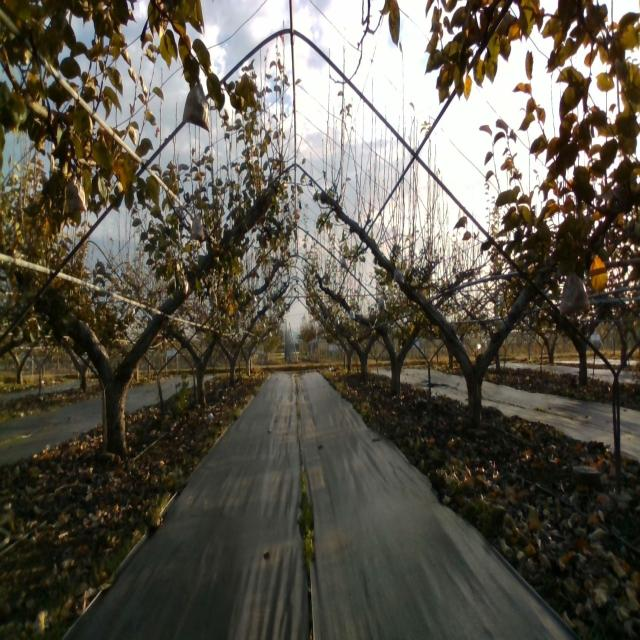pearbags: (559, 271, 591, 317), (182, 80, 210, 132), (62, 172, 87, 216), (190, 214, 204, 241), (394, 262, 405, 284)
